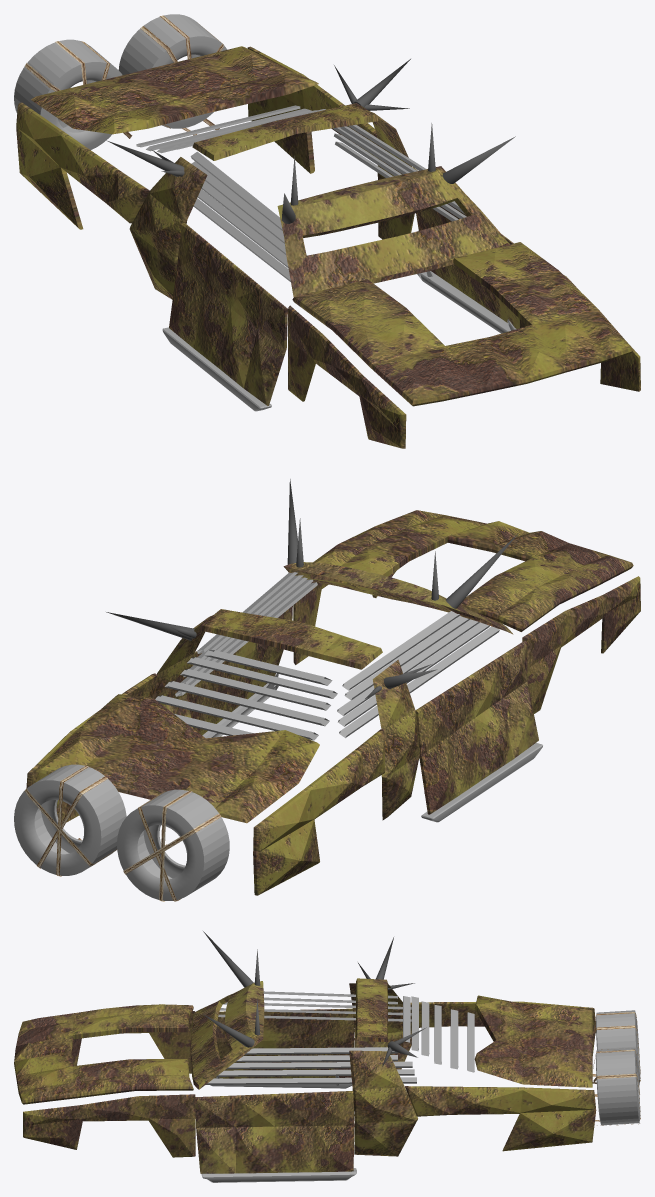
The model's file is Charger Armor.fbx.
3 views of the same model, one above another, from view 1: azimuth 30°, elevation 25°; view 2: azimuth 150°, elevation 25°; view 3: azimuth 270°, elevation 25° (orthographic). The views are drawn at different scales.
Parts seen in each view (by area): view 1: Panel_01_Geo, Windshield, Panel_12_Geo, polySurface1, polySurface7, polySurface3, polySurface5, Spare_Tire01_Geo, Spare_Tire02_Geo, Panel_02_Geo, polySurface8, Platforms (+14 smaller); view 2: Panel_12_Geo, Panel_01_Geo, polySurface1, Spare_Tire01_Geo, polySurface7, Spare_Tire02_Geo, polySurface3, Panel_02_Geo, polySurface5, Windshield, polySurface2, Platforms (+20 smaller); view 3: polySurface2, Panel_01_Geo, Panel_12_Geo, polySurface8, polySurface4, polySurface6, polySurface1, Windshield, Spare_Tire02_Geo, Panel_02_Geo, Platforms, Spare_Tire01_Geo (+17 smaller).
Boxes of the visible parts, <box> form: Panel_01_Geo: <box>292,242,633,406</box>; Windshield: <box>277,166,510,297</box>; Panel_12_Geo: <box>31,46,318,134</box>; polySurface1: <box>169,223,287,405</box>; polySurface7: <box>16,102,149,229</box>; polySurface3: <box>288,305,406,448</box>; polySurface5: <box>129,157,207,299</box>; Spare_Tire01_Geo: <box>14,39,122,149</box>; Spare_Tire02_Geo: <box>118,14,227,128</box>; Panel_02_Geo: <box>192,103,378,160</box>; polySurface8: <box>247,46,377,173</box>; Platforms: <box>162,271,516,411</box>; Panel_12_Geo: <box>36,694,319,823</box>; Panel_01_Geo: <box>313,510,633,631</box>; polySurface1: <box>415,640,538,814</box>; Spare_Tire01_Geo: <box>117,789,229,900</box>; polySurface7: <box>253,729,385,895</box>; Spare_Tire02_Geo: <box>14,764,126,875</box>; polySurface3: <box>522,576,640,713</box>; Panel_02_Geo: <box>199,609,382,669</box>; polySurface5: <box>372,659,419,820</box>; Windshield: <box>283,562,513,634</box>; polySurface2: <box>186,606,292,735</box>; Platforms: <box>202,673,542,822</box>; polySurface2: <box>195,1091,354,1173</box>; Panel_01_Geo: <box>14,1004,193,1104</box>; Panel_12_Geo: <box>474,995,592,1087</box>; polySurface8: <box>405,1086,596,1151</box>; polySurface4: <box>23,1094,195,1157</box>; polySurface6: <box>349,1050,417,1156</box>; polySurface1: <box>214,1008,354,1078</box>; Windshield: <box>190,981,264,1089</box>; Spare_Tire02_Geo: <box>596,1048,640,1125</box>; Panel_02_Geo: <box>356,978,387,1042</box>; Platforms: <box>201,1076,356,1182</box>; Spare_Tire01_Geo: <box>596,1010,640,1085</box>.
Bounding box in the file's own units: 2.43 × 1.57 × 5.54.
